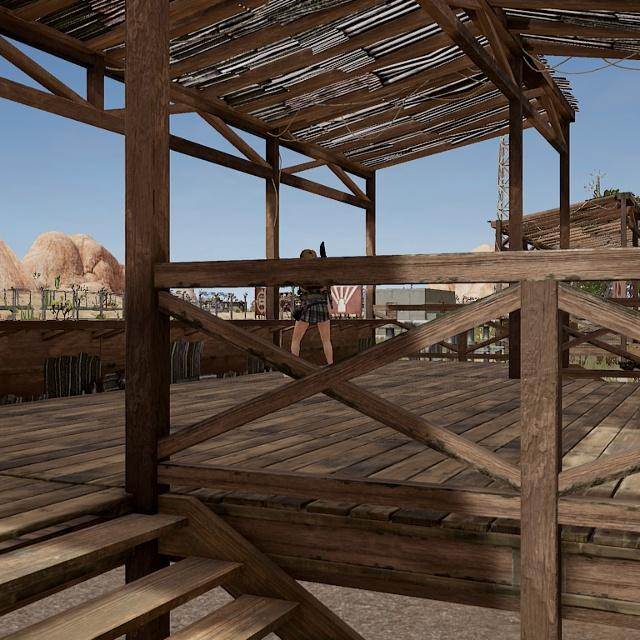head: (297, 248, 323, 258)
people: (281, 247, 343, 378)
